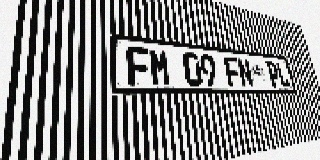0: (182, 52, 203, 86)
9: (199, 54, 219, 87)
F: (126, 46, 151, 86), (223, 56, 242, 87)
L: (275, 62, 291, 87)
M: (149, 48, 172, 86)
N: (236, 58, 254, 87)
P: (265, 61, 281, 87)
